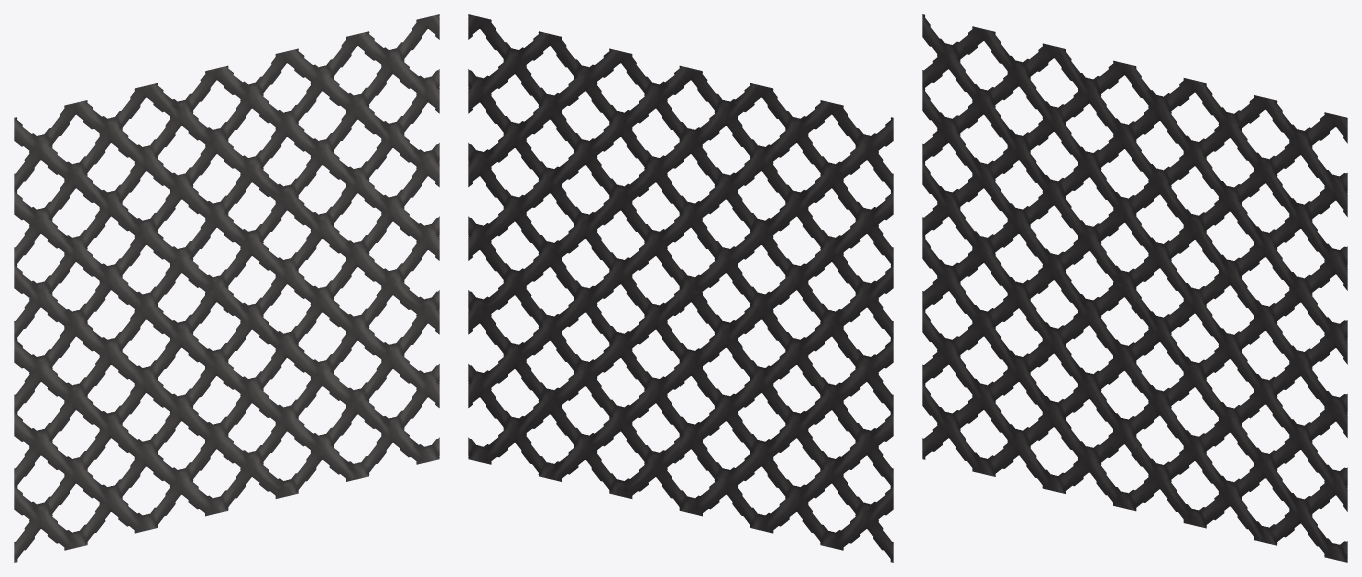
File: chainlink_props.glb
3 renders of one model, left to right at view 1: azimuth 30°, elevation 25°; view 2: azimuth 150°, elevation 25°; view 3: azimuth 330°, elevation 25°, orthographic.
Visible parts, largest first — view 1: city_base.chainlink_props-MeshSets[prop_chainlink_x2].Mesh[0, city_base.chainlink_props-MeshSets[prop_chainlink_x1].Mesh[0; view 2: city_base.chainlink_props-MeshSets[prop_chainlink_x2].Mesh[0, city_base.chainlink_props-MeshSets[prop_chainlink_x1].Mesh[0; view 3: city_base.chainlink_props-MeshSets[prop_chainlink_x2].Mesh[0, city_base.chainlink_props-MeshSets[prop_chainlink_x1].Mesh[0.
Boxes of the visible parts, x1,y1,x2,y2 form: city_base.chainlink_props-MeshSets[prop_chainlink_x2].Mesh[0: (14, 14, 439, 562); city_base.chainlink_props-MeshSets[prop_chainlink_x1].Mesh[0: (14, 289, 227, 562); city_base.chainlink_props-MeshSets[prop_chainlink_x2].Mesh[0: (468, 14, 893, 562); city_base.chainlink_props-MeshSets[prop_chainlink_x1].Mesh[0: (680, 287, 893, 562); city_base.chainlink_props-MeshSets[prop_chainlink_x2].Mesh[0: (922, 14, 1347, 562); city_base.chainlink_props-MeshSets[prop_chainlink_x1].Mesh[0: (922, 236, 1135, 511).
Bounding box in the file's own units: 2.01 × 2.01 × 0.
1 material, 1 textured.
